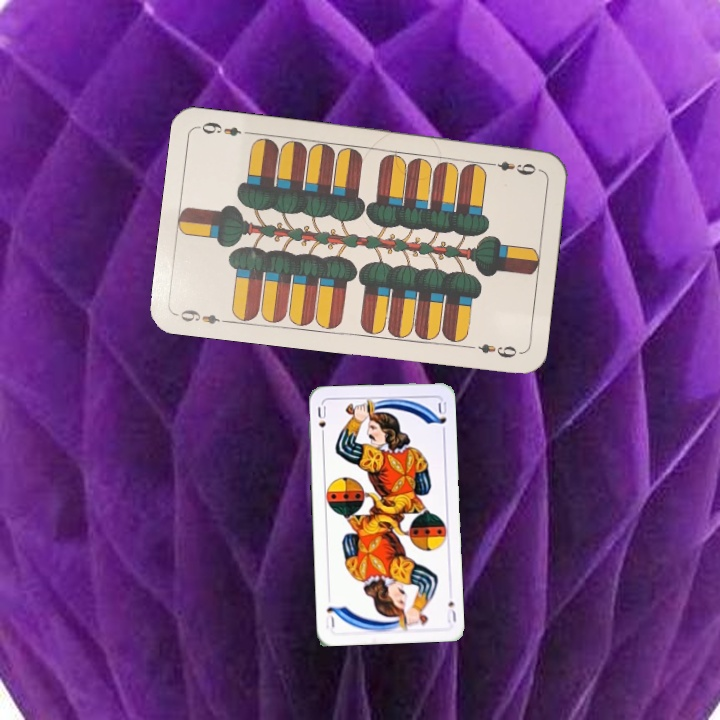E9: (173, 305, 232, 327), (483, 157, 538, 178)
SU: (314, 402, 329, 441), (443, 597, 459, 625)
